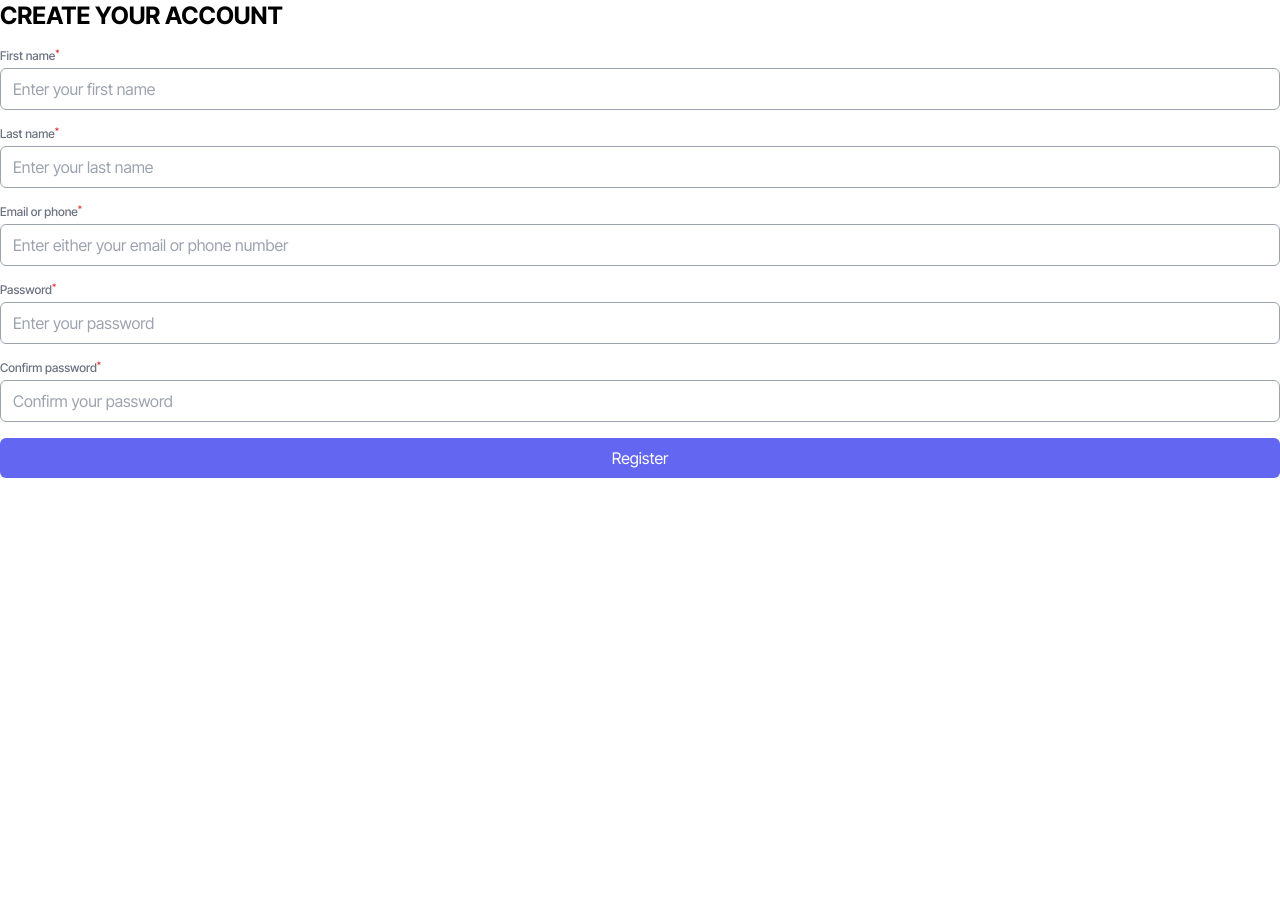
Scenario: RegisterForm › should display error modal when registration fails
Type "John" into the field with test id "first-name-input".
click(640, 89); type("John")  # box [0,68,1279,110]
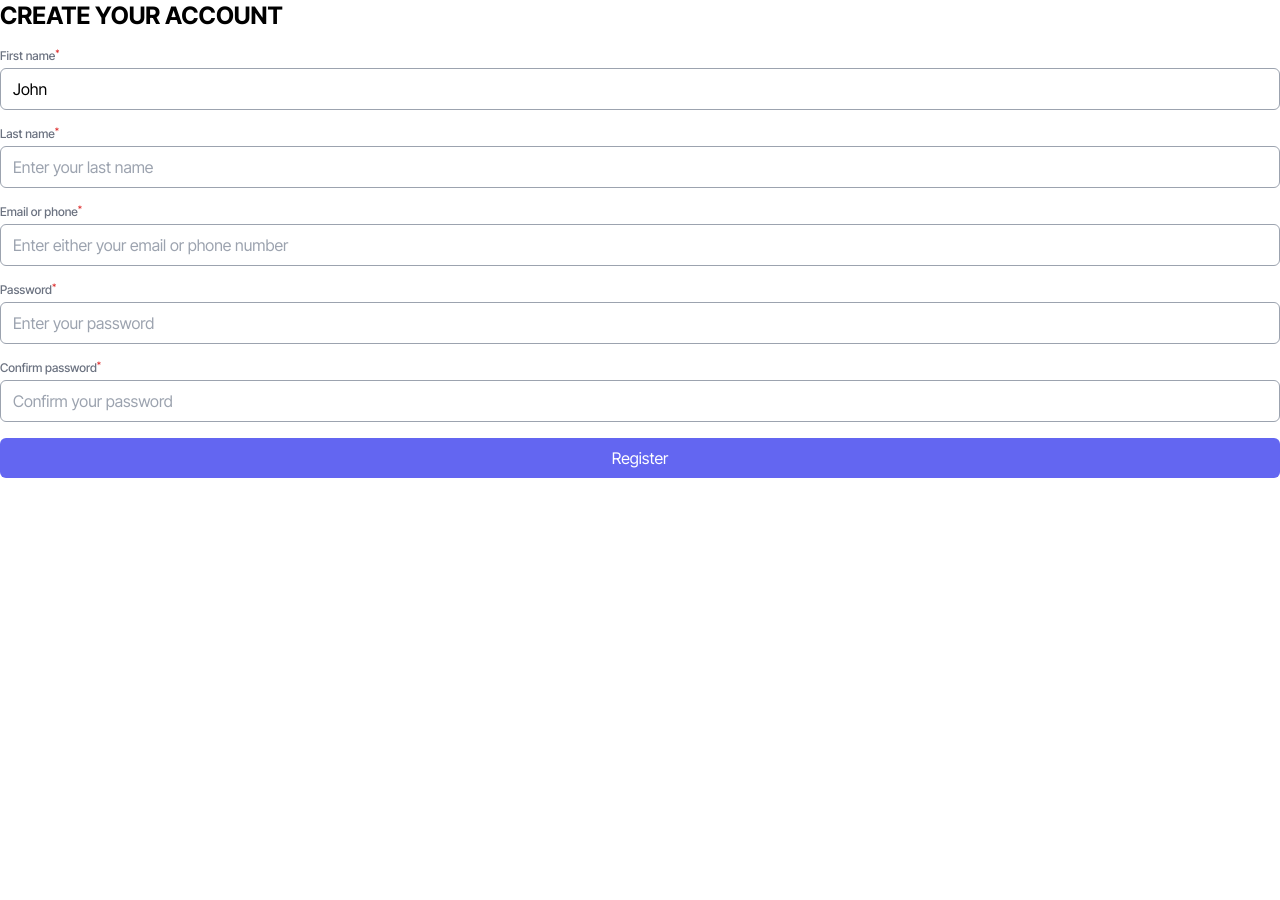
Type "Doe" into the field with test id "last-name-input".
click(640, 167); type("Doe")  # box [0,146,1279,188]
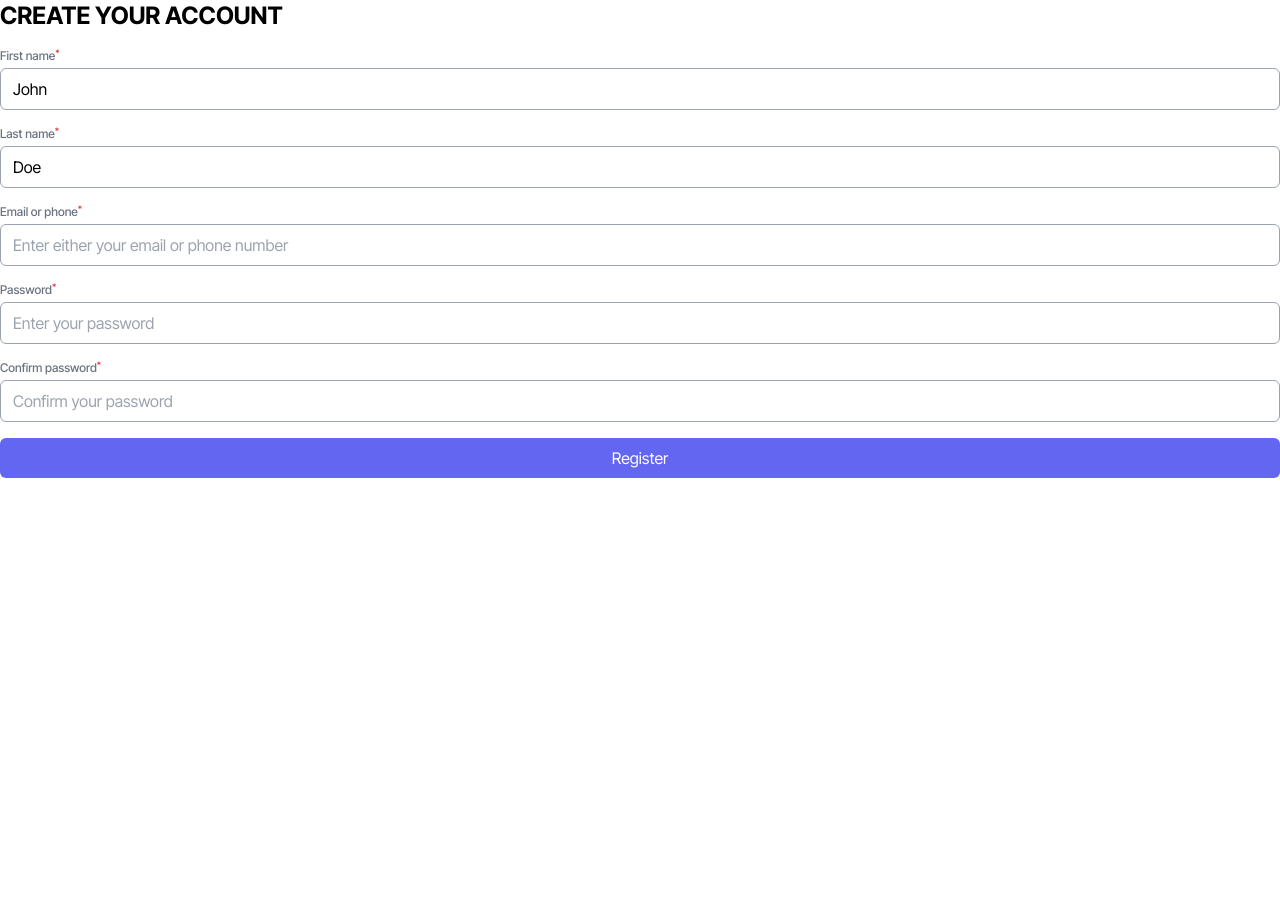
Type "test@example.com" into the field with test id "email-or-phone-input".
click(640, 245); type("test@example.com")  # box [0,224,1279,266]
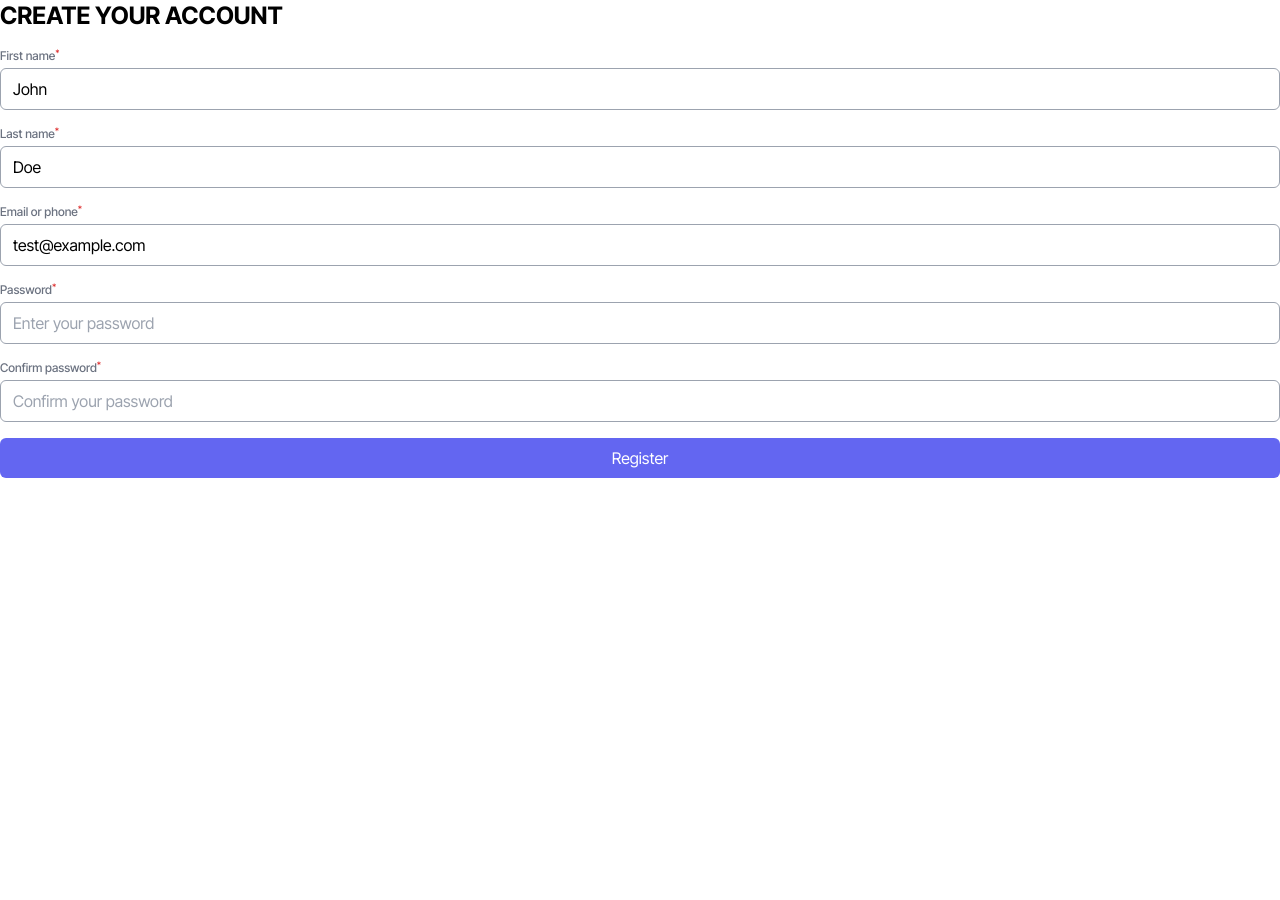
Type "StrongPassword123!@" into the password field with test id "password-input".
click(640, 323); type("StrongPassword123!@")  # box [0,302,1279,344]
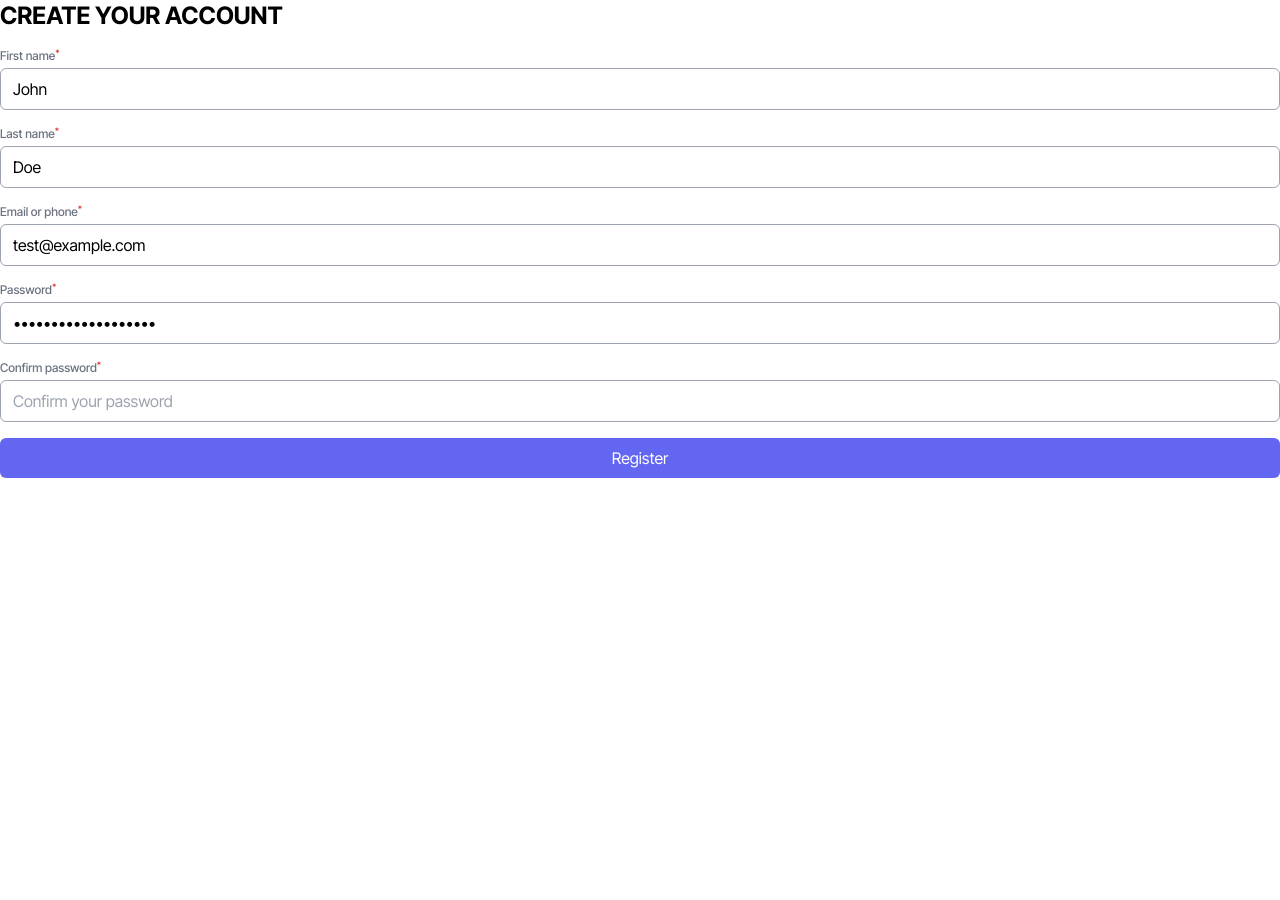
Type "StrongPassword123!@" into the password field with test id "confirm-password-input".
click(640, 401); type("StrongPassword123!@")  # box [0,380,1279,422]
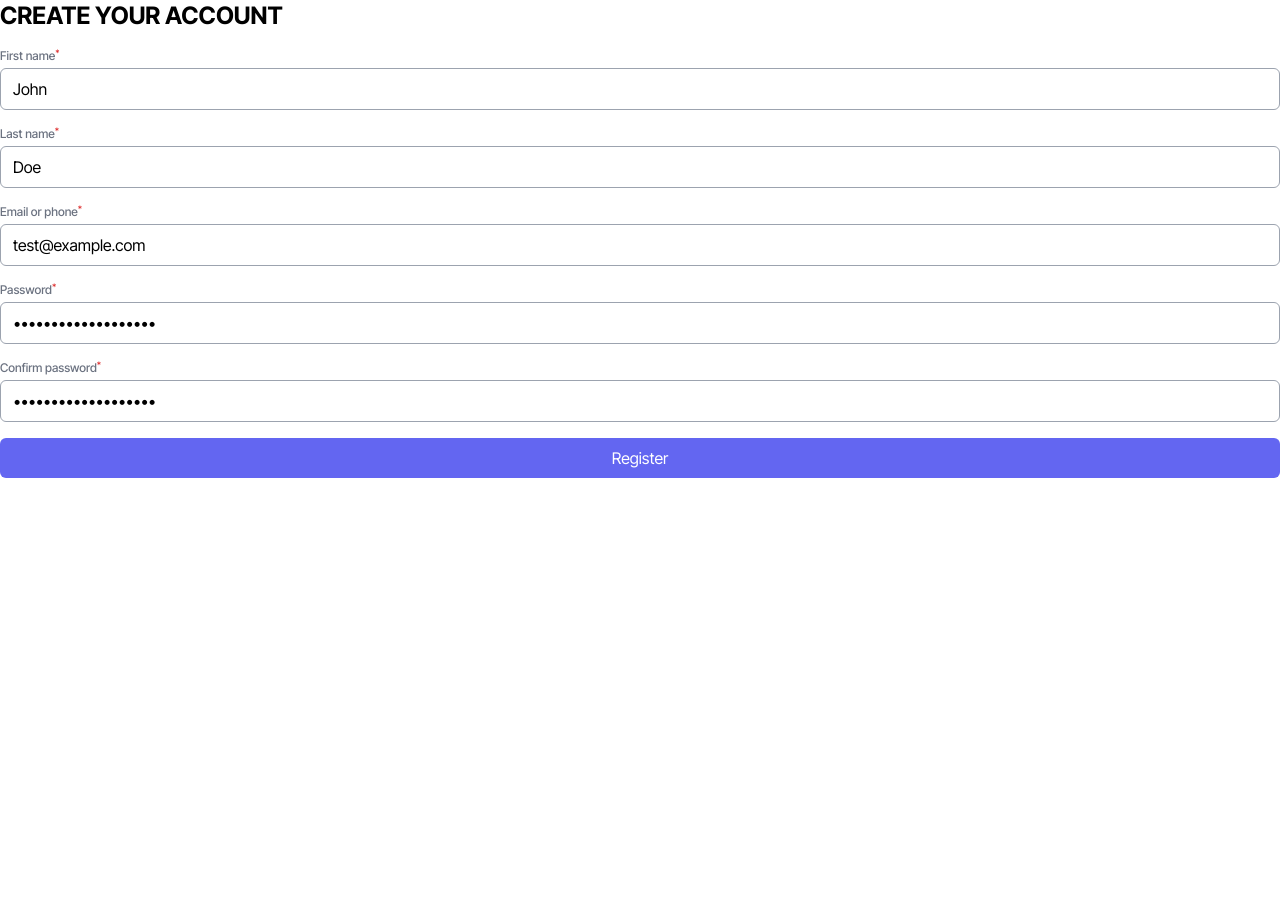
Click the button with test id "submit-button".
click(640, 458)  # box [0,438,1279,478]
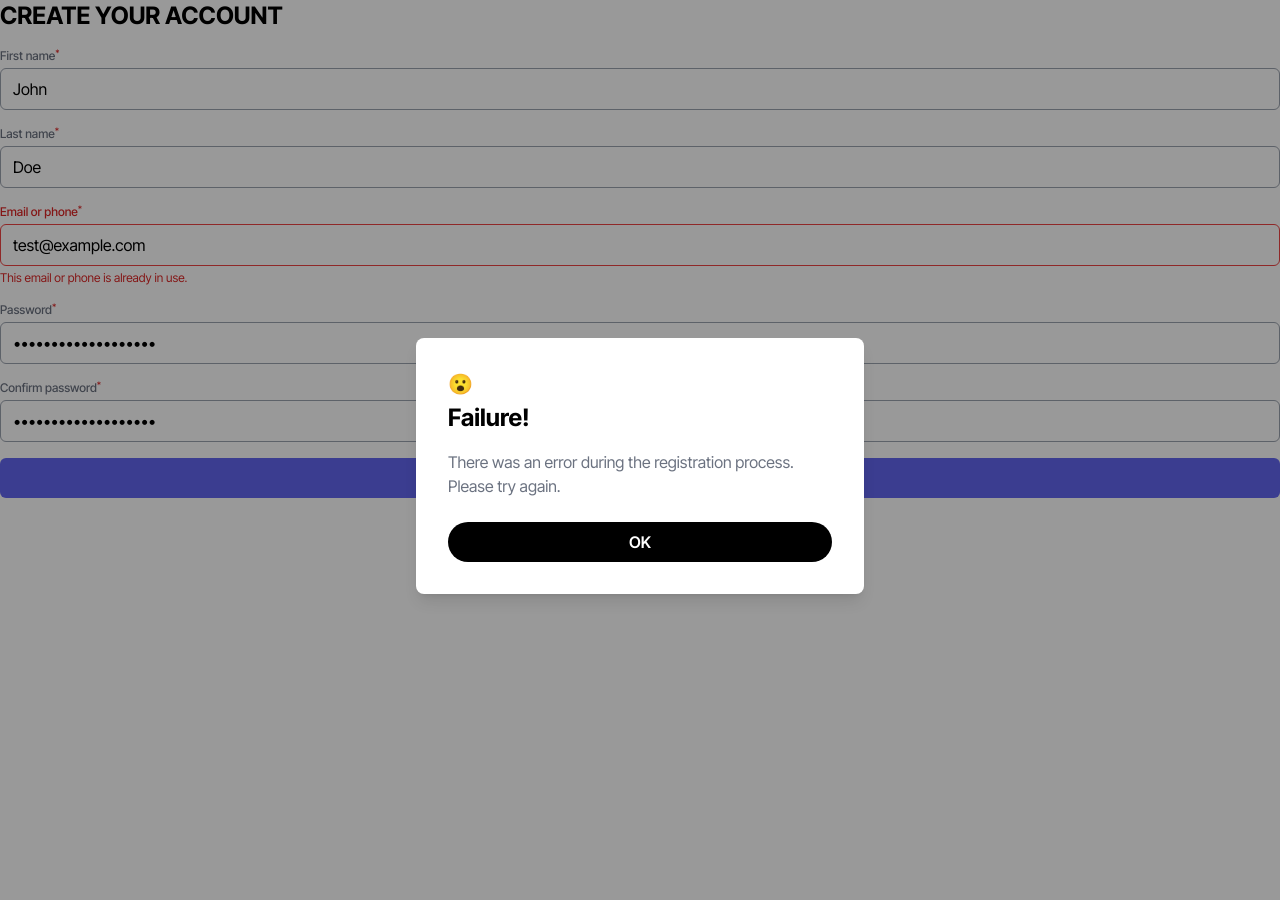
Check: the text "This email or phone is already in use." is shown, box [0,270,187,285]
